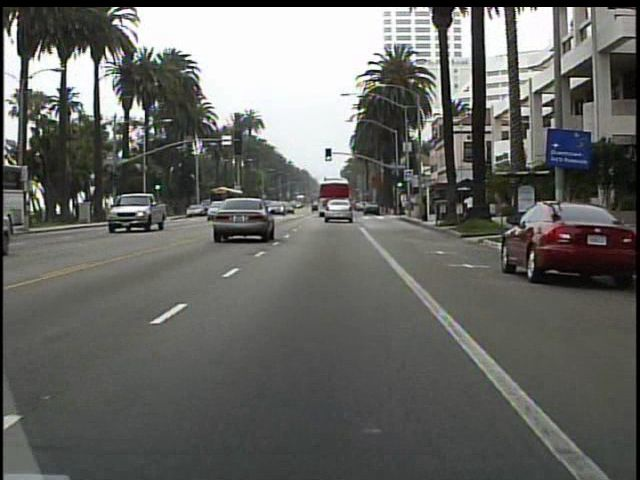person: (461, 191, 477, 223)
